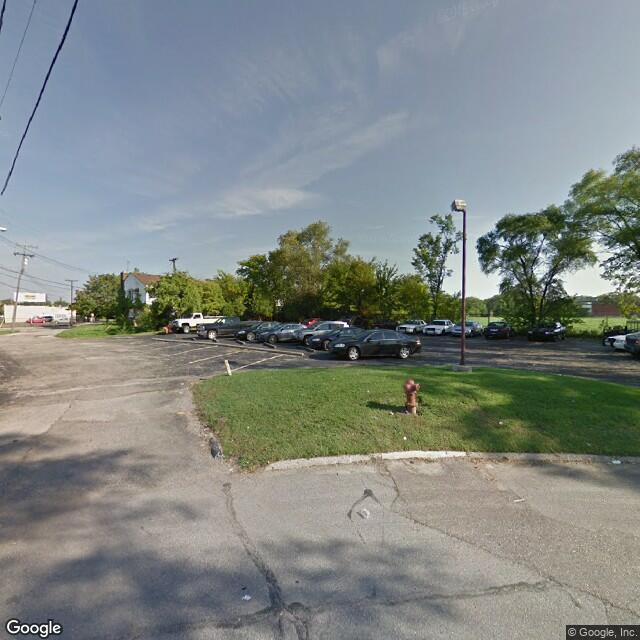litter: (357, 507, 372, 517), (611, 456, 621, 467), (240, 594, 253, 602), (497, 419, 505, 427), (386, 409, 394, 417), (403, 436, 407, 438)
